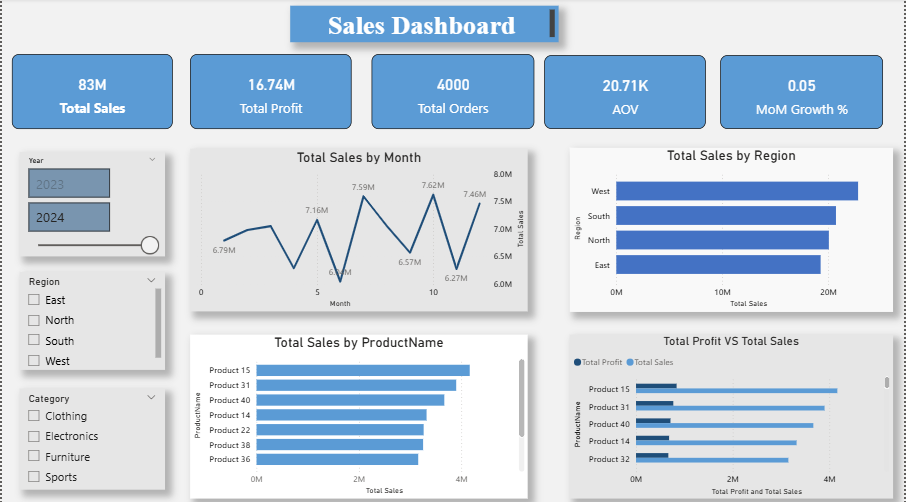

The dashboard page shown, as its layout file describes it:
{"tool":"powerbi","page":{"name":"Page 1","canvas":[1280,720],"ordinal":0},"visuals":[{"type":"textbox","box":[409,10.9,380.9,51.5],"z":0},{"type":"card","fields":{"Values":["Orders.Total Sales"]},"box":[14,79.6,227.9,106.2],"z":1000},{"type":"card","fields":{"Values":["Orders.Total Profit"]},"box":[266.9,79.6,229.5,106.2],"z":2000},{"type":"card","fields":{"Values":["Orders.Total Orders"]},"box":[524.5,79.6,231,106.2],"z":3000},{"type":"card","fields":{"Values":["Orders.AOV"]},"box":[769.6,81.2,229.5,104.6],"z":4000},{"type":"card","fields":{"Values":["Orders.MoM Growth %"]},"box":[1019.4,81.2,231,104.6],"z":5000},{"type":"lineChart","fields":{"Category":["Calendar.Month"],"Y":["Orders.Total Sales"]},"box":[266.9,213.9,479.3,231],"z":6000},{"type":"barChart","fields":{"Category":["Products.ProductName"],"Y":["Orders.Total Sales"]},"box":[266.9,477.7,479.3,232.6],"z":7000},{"type":"barChart","fields":{"Y":["Orders.Total Sales"],"Category":["Customers.Region"]},"box":[805.5,212.3,459,232.6],"z":8000},{"type":"clusteredBarChart","title":"Total Profit VS Total Sales","fields":{"Y":["Orders.Total Profit","Orders.Total Sales"],"Category":["Products.ProductName"]},"box":[805.5,477.7,459,232.6],"z":9000},{"type":"slicer","fields":{"Values":["Calendar.Year"]},"box":[25,218.6,206.1,148.3],"z":10000},{"type":"slicer","fields":{"Values":["Customers.Region"]},"box":[25,388.7,206.1,138.9],"z":11000},{"type":"slicer","fields":{"Values":["Products.Category"]},"box":[25,554.2,206.1,143.6],"z":12000}]}

Visuals, with their boxes in screenshot pixels (x1, y1, x2, y2), scaled from the page's 1280x720 canvas onto the 906x502 screenshot:
textbox: l=289, t=8, r=559, b=44
card - Orders.Total Sales: l=10, t=55, r=171, b=130
card - Orders.Total Profit: l=189, t=55, r=351, b=130
card - Orders.Total Orders: l=371, t=55, r=535, b=130
card - Orders.AOV: l=545, t=57, r=707, b=130
card - Orders.MoM Growth %: l=722, t=57, r=885, b=130
lineChart - Calendar.Month x Orders.Total Sales: l=189, t=149, r=528, b=310
barChart - Products.ProductName x Orders.Total Sales: l=189, t=333, r=528, b=495
barChart - Orders.Total Sales x Customers.Region: l=570, t=148, r=895, b=310
"Total Profit VS Total Sales" clusteredBarChart: l=570, t=333, r=895, b=495
slicer - Calendar.Year: l=18, t=152, r=164, b=256
slicer - Customers.Region: l=18, t=271, r=164, b=368
slicer - Products.Category: l=18, t=386, r=164, b=487
